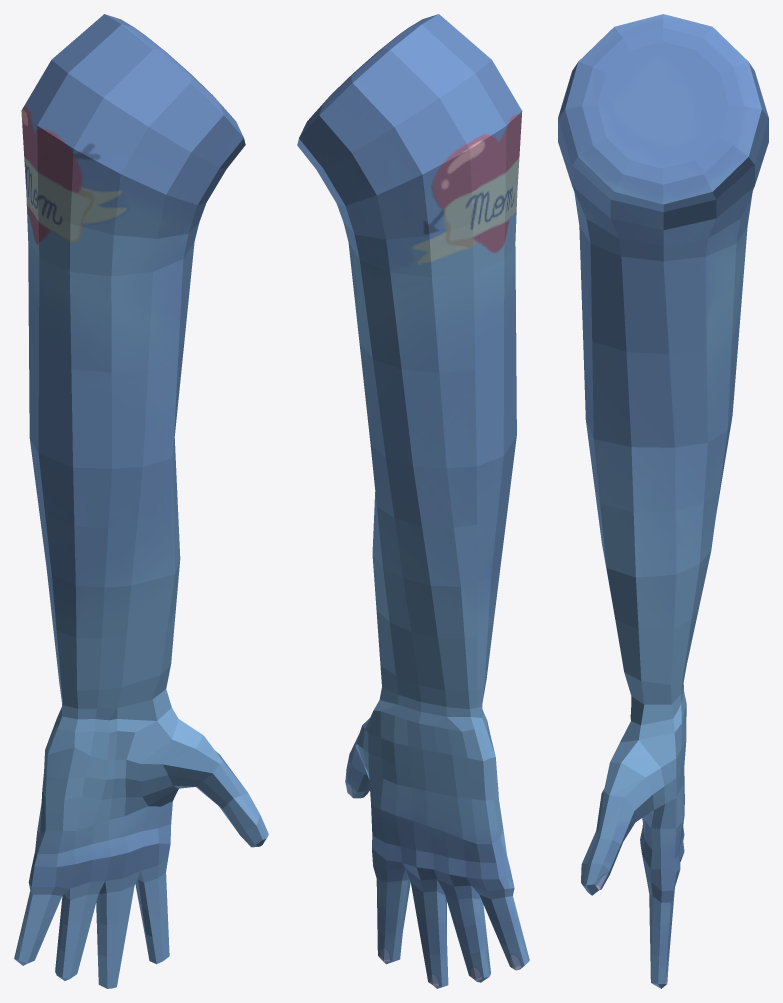
Rendered from ING_Arm_v04.fbx.
3 views of the same model, side by side, from view 1: azimuth 30°, elevation 25°; view 2: azimuth 150°, elevation 25°; view 3: azimuth 270°, elevation 25° (orthographic).
Visible parts, largest first — view 1: Arm Whole 02; view 2: Arm Whole 02; view 3: Arm Whole 02.
Part boxes in pixels (bbox=[...]): Arm Whole 02: bbox=[14, 14, 268, 988]; Arm Whole 02: bbox=[297, 14, 529, 988]; Arm Whole 02: bbox=[558, 14, 768, 988].
Size of the model in its own units: 26.3 by 111 by 21.91.
